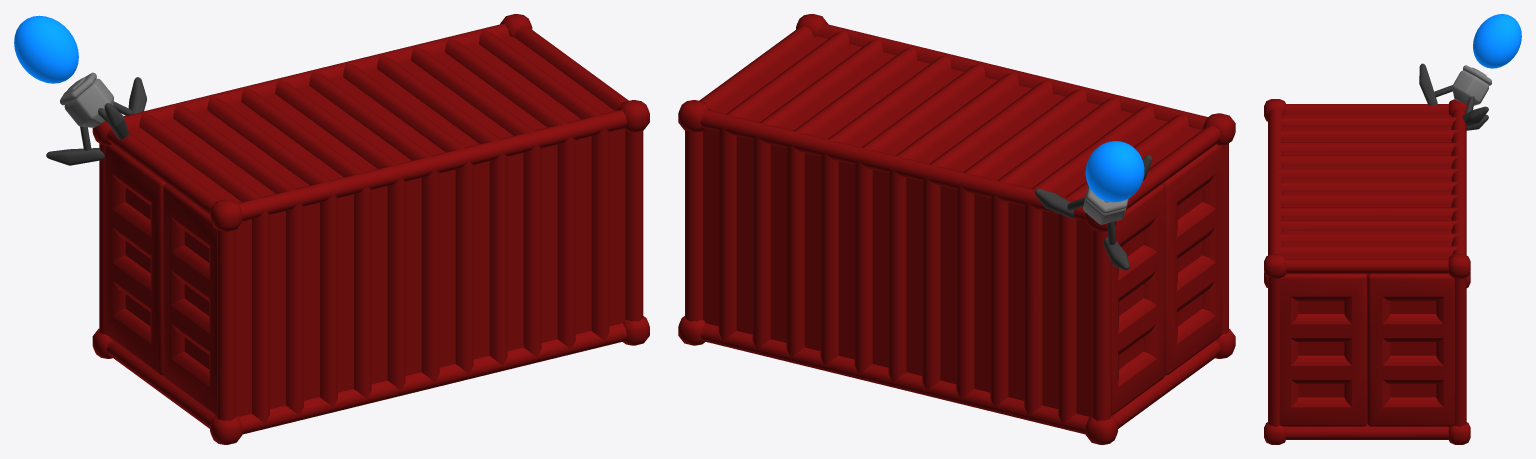
File: LastLuna_Model_Object_Container.fbx
The picture shows the model from 3 angles, left to right: view 1: azimuth 30°, elevation 25°; view 2: azimuth 150°, elevation 25°; view 3: azimuth 270°, elevation 25°; orthographic projection. The views are drawn at different scales.
Visible parts, largest first — view 1: Container001, Container_Door_Left_Front001, Container_Door_Right_Front001, Portal001, Drill_Body001, Leg_Spike002; view 2: Container001, Container_Door_Right_Front001, Container_Door_Left_Front001, Portal001, Leg_Spike003, Drill_Body001; view 3: Container001, Container_Door_Right_Back001, Container_Door_Left_Back001, Portal001, Drill_Body001, Leg_Spike001, Leg_Spike003.
Boxes of the visible parts, x1,y1,x2,y2 form: Container001: (92, 14, 649, 444); Container_Door_Left_Front001: (105, 144, 165, 375); Container_Door_Right_Front001: (163, 184, 216, 415); Portal001: (14, 15, 78, 83); Drill_Body001: (64, 77, 113, 127); Leg_Spike002: (46, 148, 104, 165); Container001: (678, 14, 1235, 444); Container_Door_Right_Front001: (1162, 144, 1222, 375); Container_Door_Left_Front001: (1111, 184, 1164, 415); Portal001: (1085, 141, 1144, 202); Leg_Spike003: (1034, 188, 1079, 220); Drill_Body001: (1083, 185, 1126, 224); Container001: (1264, 99, 1470, 444); Container_Door_Right_Back001: (1279, 273, 1367, 426); Container_Door_Left_Back001: (1367, 273, 1454, 426); Portal001: (1473, 14, 1521, 68); Drill_Body001: (1452, 67, 1488, 105); Leg_Spike001: (1419, 63, 1437, 105); Leg_Spike003: (1462, 106, 1488, 126).
Bounding box in the file's own units: 714 × 462 × 421.
